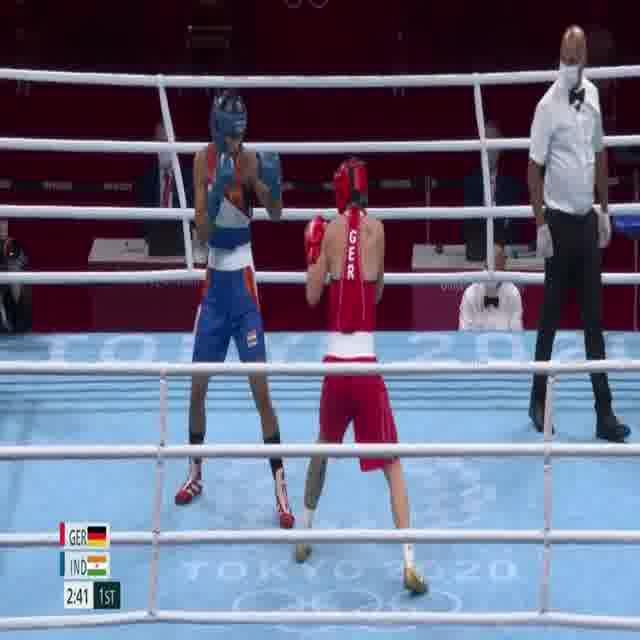blue-player: (173, 86, 299, 532)
red-player: (292, 155, 429, 598)
referee: (524, 23, 630, 448)
